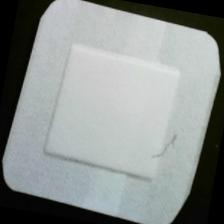Dressing: (1, 1, 224, 224)
F_Body: (145, 122, 187, 170)
